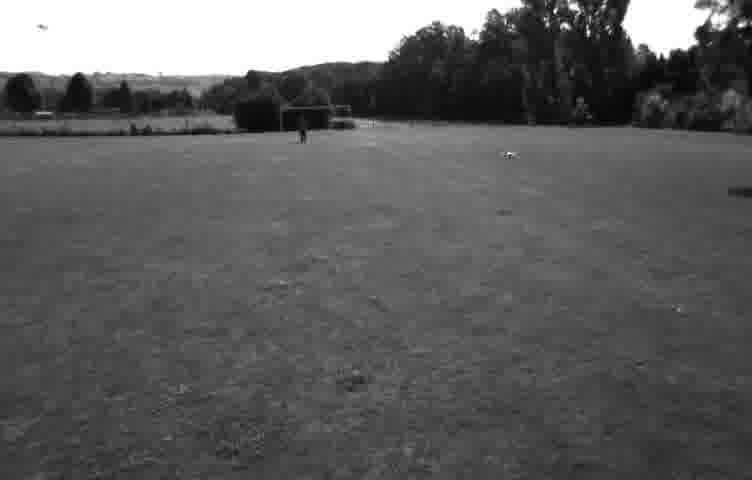drone: (496, 145, 522, 166)
